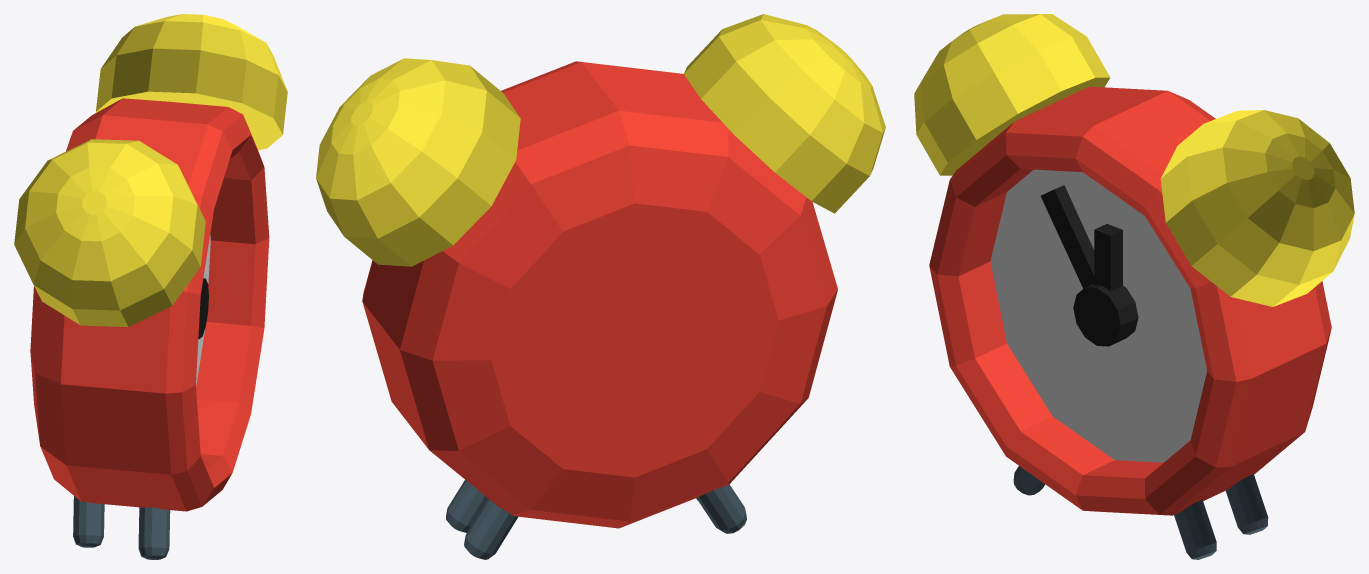
Rendered from group1460745379_lev3.glb.
The picture shows the model from 3 angles, left to right: view 1: azimuth 30°, elevation 25°; view 2: azimuth 150°, elevation 25°; view 3: azimuth 270°, elevation 25°; orthographic projection. The views are drawn at different scales.
Visible parts, largest first — view 1: group1460745379_lev3; view 2: group1460745379_lev3; view 3: group1460745379_lev3.
Boxes of the visible parts, x1,y1,x2,y2 form: group1460745379_lev3: (14, 14, 287, 559); group1460745379_lev3: (316, 14, 885, 559); group1460745379_lev3: (914, 14, 1354, 559).
Bounding box in the file's own units: 1.76 × 2.02 × 1.79.
